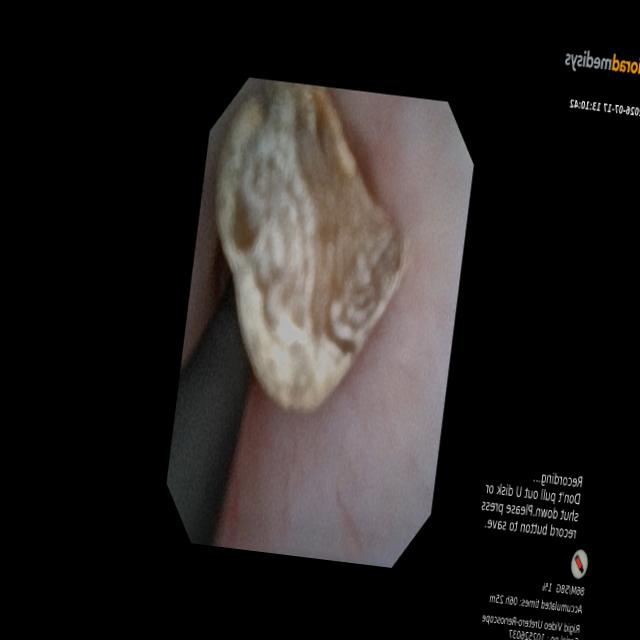stone-new: (216, 81, 404, 409)
